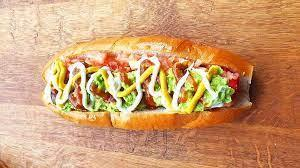Completos: (40, 33, 254, 134)
